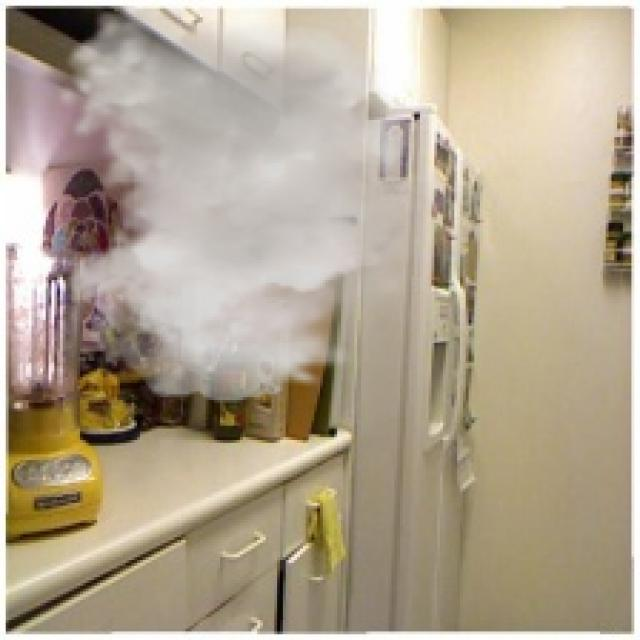smoke: (54, 6, 463, 403)
